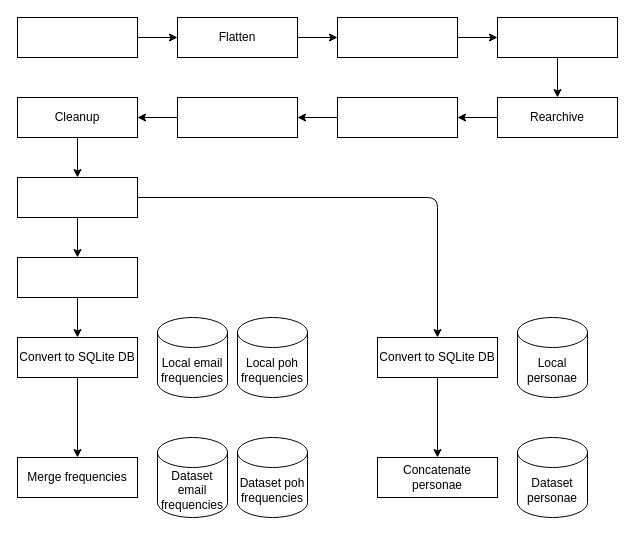
This 635x535 diagram has some shape labels left out. The box of each missing label's shape, as (x1, y1, x2, y2) in pixels:
Convert to parquet: (16, 176, 138, 218)
Count local frequencies: (16, 256, 138, 298)
Detect schema: (336, 96, 458, 138)
Parse: (176, 96, 298, 138)
Regroup: (496, 16, 618, 58)
Split into chunks: (336, 16, 458, 58)
Unarchive: (16, 16, 138, 58)
